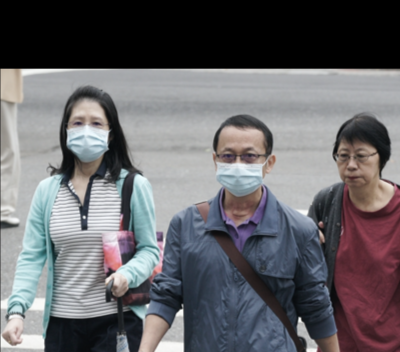with_mask: (212, 145, 266, 196), (65, 111, 110, 161)
without_mask: (335, 146, 379, 187)
